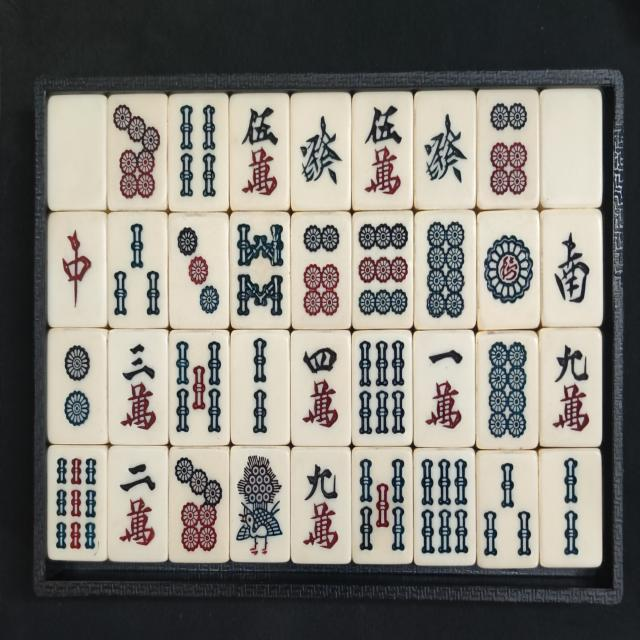hdg: (419, 100, 473, 198), (296, 101, 346, 200)
hdr: (52, 222, 100, 320)
hdw: (548, 98, 598, 196), (52, 104, 100, 201)
hws: (546, 216, 596, 316)
sb1: (233, 451, 288, 558)
sb2: (546, 456, 596, 561), (237, 334, 285, 440)
sb3: (481, 456, 535, 563), (113, 217, 164, 322)
sb4: (174, 97, 222, 202)
sb5: (355, 452, 407, 558), (173, 335, 224, 440)
sb6: (418, 455, 472, 560), (356, 335, 407, 440)
sb8: (233, 218, 288, 322)
sb9: (51, 451, 100, 555)
sc1: (418, 338, 469, 440)
sc2: (114, 454, 164, 552)
sc3: (114, 338, 164, 436)
sc4: (296, 338, 346, 436)
sc5: (358, 99, 408, 202), (235, 100, 284, 199)
sc9: (296, 452, 346, 558), (546, 334, 596, 436)
sd1: (481, 217, 536, 323)
sd2: (53, 338, 103, 438)
sd3: (173, 218, 223, 318)
sd6: (482, 96, 532, 200), (297, 218, 345, 320)
sd7: (173, 451, 226, 556), (112, 99, 162, 204)
sd8: (419, 216, 471, 322), (482, 337, 532, 442)
sd9: (356, 216, 410, 322)
